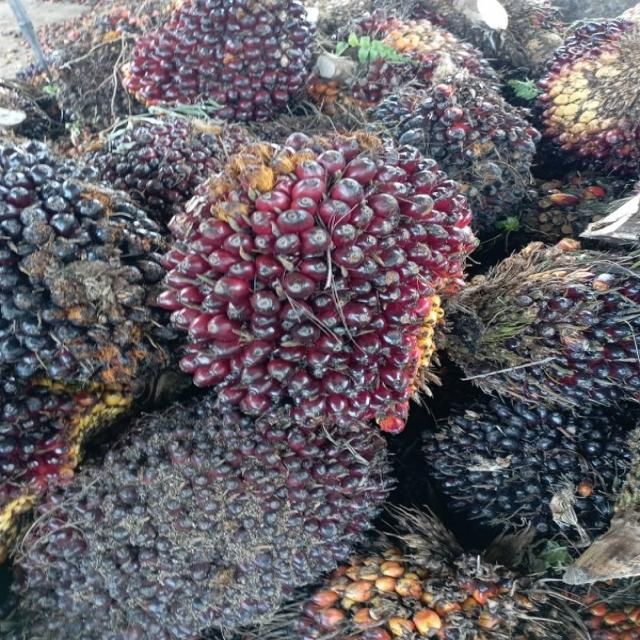fraksi 00: (399, 365, 640, 557)
fraksi 1: (151, 125, 480, 444)
